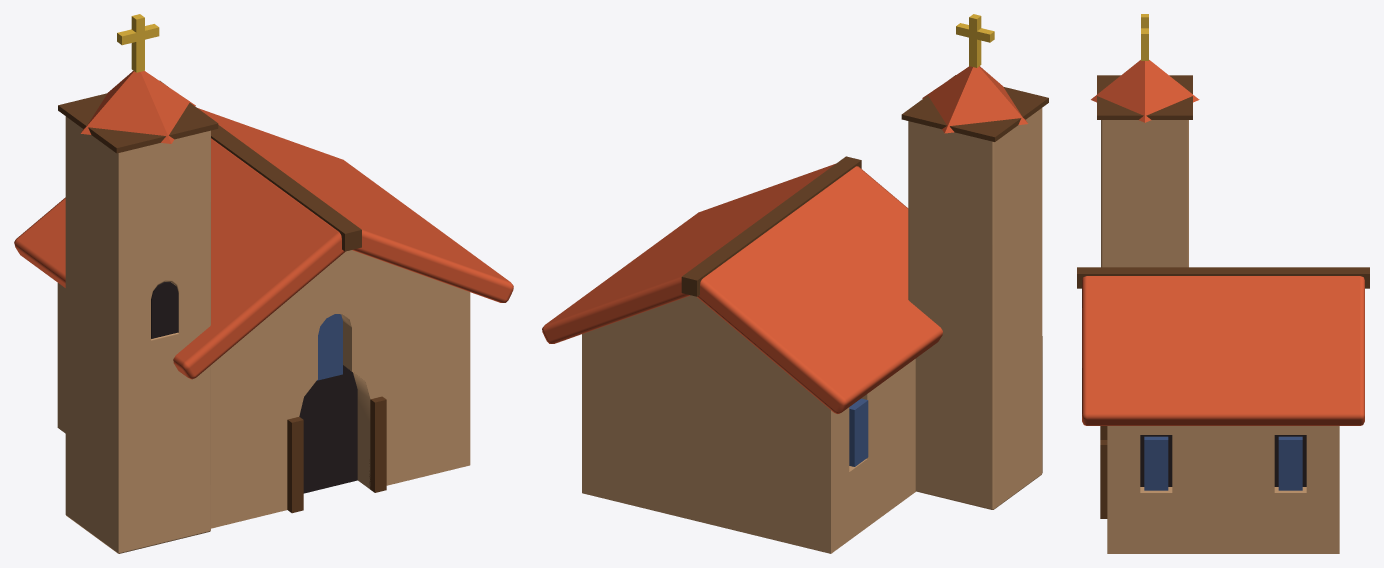
The model's file is Buildings__shrine.glb.
The picture shows the model from 3 angles, left to right: view 1: azimuth 30°, elevation 25°; view 2: azimuth 150°, elevation 25°; view 3: azimuth 270°, elevation 25°; orthographic projection. The views are drawn at different scales.
Parts seen in each view (by area): view 1: shrine_mesh; view 2: shrine_mesh; view 3: shrine_mesh.
Part boxes in pixels (x1,y1,x2,y2): shrine_mesh: (14,14,513,553); shrine_mesh: (542,14,1048,553); shrine_mesh: (1077,14,1369,553).
Size of the model in its own units: 2.34 by 2.86 by 1.83.
